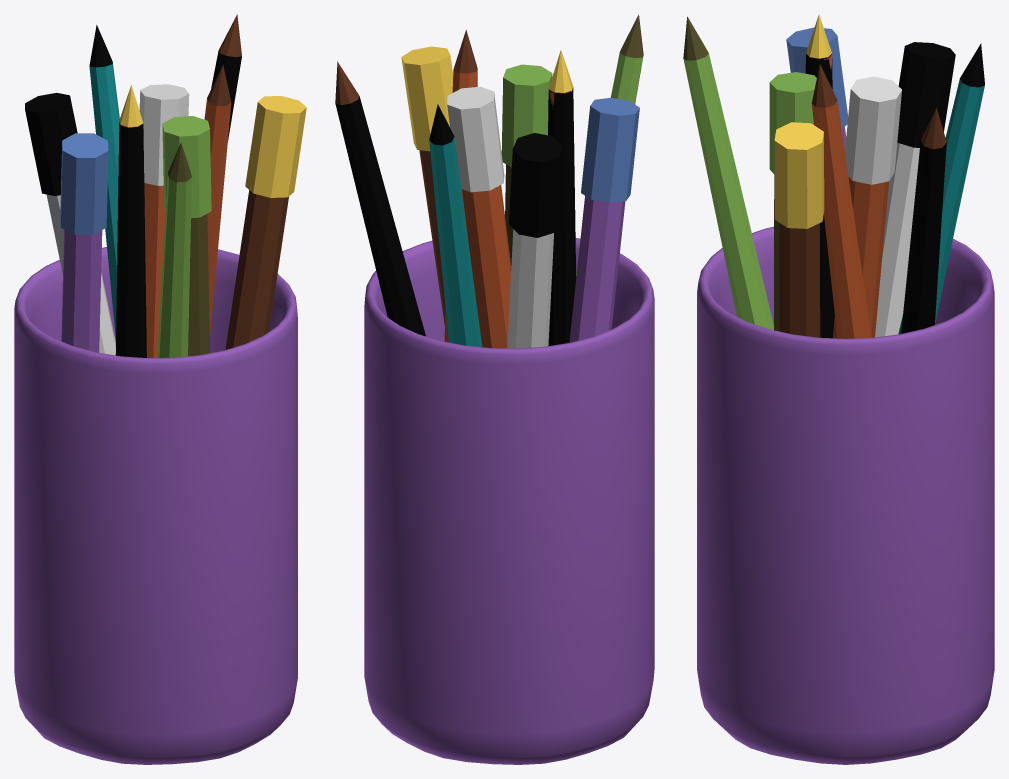
File: office_stuff_1_improved.fbx
3 views of the same model, side by side, from view 1: azimuth 30°, elevation 25°; view 2: azimuth 150°, elevation 25°; view 3: azimuth 270°, elevation 25° (orthographic). The views are drawn at different scales.
Parts seen in each view (by area): view 1: Cylinder; view 2: Cylinder; view 3: Cylinder.
Part boxes in pixels (box(x1,y1,x2,y2)): Cylinder: box(14, 14, 306, 764); Cylinder: box(335, 14, 654, 764); Cylinder: box(683, 14, 994, 764).
Bounding box in the file's own units: 11.98 × 30.02 × 12.35.
